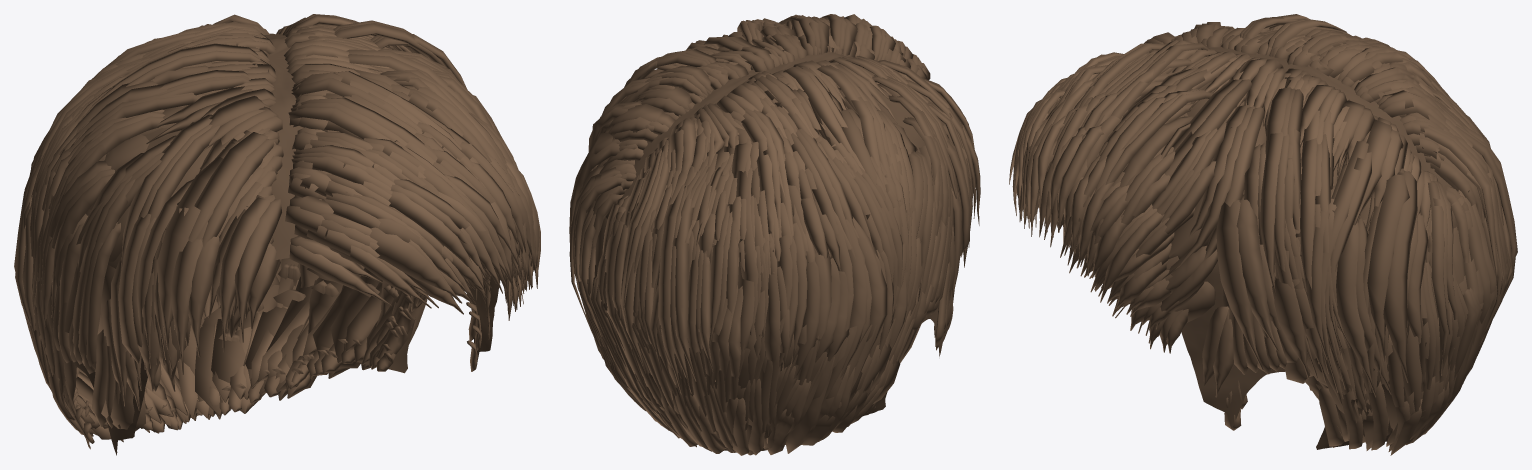
File: straight-short-human-ear.glb
3 views of the same model, side by side, from view 1: azimuth 30°, elevation 25°; view 2: azimuth 150°, elevation 25°; view 3: azimuth 270°, elevation 25° (orthographic). The views are drawn at different scales.
Visible parts, largest first — view 1: straight-short-human-ear / sculpted locks, straight-short-human-ear / hairline underlayer; view 2: straight-short-human-ear / sculpted locks, straight-short-human-ear / hairline underlayer; view 3: straight-short-human-ear / sculpted locks, straight-short-human-ear / hairline underlayer.
Boxes of the visible parts, bbox=[...] form: straight-short-human-ear / sculpted locks: bbox=[14, 14, 540, 443]; straight-short-human-ear / hairline underlayer: bbox=[63, 33, 500, 455]; straight-short-human-ear / sculpted locks: bbox=[569, 14, 980, 455]; straight-short-human-ear / hairline underlayer: bbox=[606, 52, 953, 450]; straight-short-human-ear / sculpted locks: bbox=[1009, 14, 1517, 455]; straight-short-human-ear / hairline underlayer: bbox=[1181, 44, 1456, 449].
Size of the model in its own units: 0.234 by 0.2404 by 0.2826.
